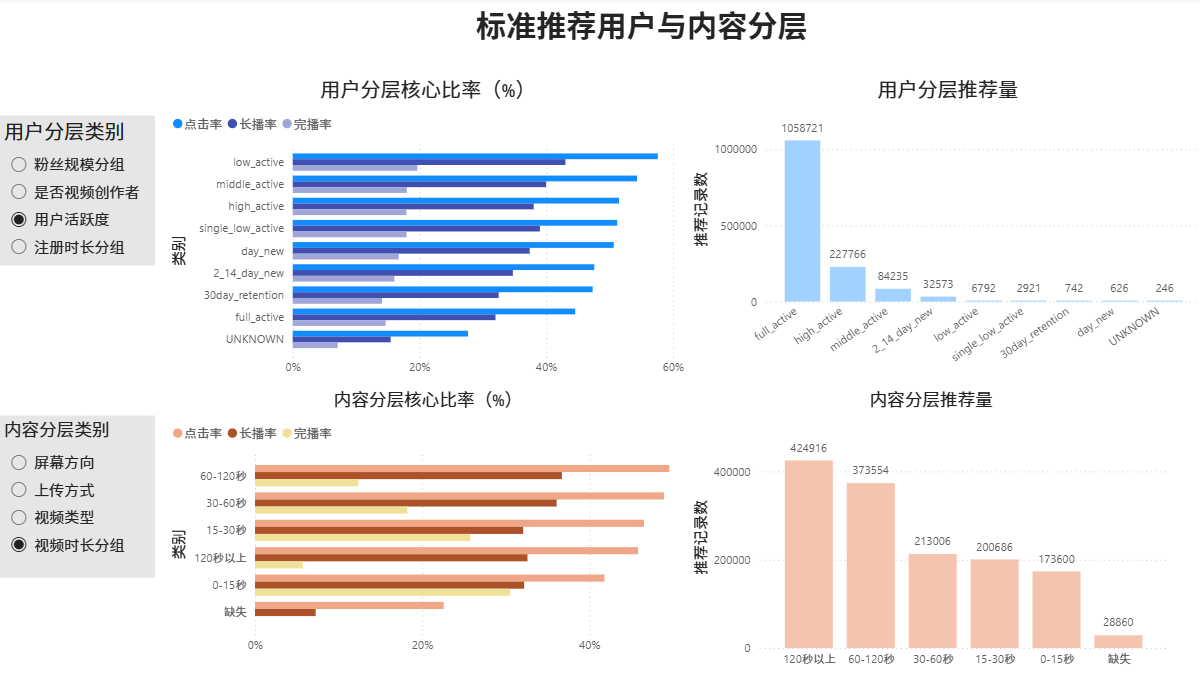

The dashboard page shown, as its layout file describes it:
{"tool":"powerbi","page":{"name":"用户与内容","canvas":[1280,720],"ordinal":1},"visuals":[{"type":"textbox","box":[455,0,453.3,81.7],"z":0},{"type":"slicer","title":"用户分层类别","fields":{"Values":["kuairand_analytics vw_metric_user_segments_standard.segment_type"]},"box":[0,125,165,158.3],"z":1000},{"type":"clusteredBarChart","title":"用户分层核心比率（%）","fields":{"Category":["kuairand_analytics vw_metric_user_segments_standard.segment_value"],"Y":["Avg(kuairand_analytics vw_metric_user_segments_standard.click_rate_pct)","Avg(kuairand_analytics vw_metric_user_segments_standard.long_view_rate_pct)","Avg(kuairand_analytics vw_metric_user_segments_standard.complete_play_rate_pct)"]},"box":[178.3,81.7,553.3,330],"z":2000},{"type":"clusteredColumnChart","title":"用户分层推荐量","fields":{"Category":["kuairand_analytics vw_metric_user_segments_standard.segment_value"],"Y":["Sum(kuairand_analytics vw_metric_user_segments_standard.recommendation_records)"]},"box":[731.7,81.7,548.3,330],"z":3000},{"type":"slicer","title":"内容分层类别","fields":{"Values":["kuairand_analytics vw_metric_content_segments_standard.segment_type"]},"box":[0,443.3,165,171.7],"z":4000},{"type":"clusteredBarChart","title":"内容分层核心比率（%）","fields":{"Category":["kuairand_analytics vw_metric_content_segments_standard.segment_value"],"Y":["Sum(kuairand_analytics vw_metric_content_segments_standard.click_rate_pct)","Sum(kuairand_analytics vw_metric_content_segments_standard.long_view_rate_pct)","Sum(kuairand_analytics vw_metric_content_segments_standard.complete_play_rate_pct)"]},"box":[178.3,411.7,553.3,293.3],"z":5000},{"type":"clusteredColumnChart","title":"内容分层推荐量","fields":{"Category":["kuairand_analytics vw_metric_content_segments_standard.segment_value"],"Y":["Sum(kuairand_analytics vw_metric_content_segments_standard.recommendation_records)"]},"box":[731.7,411.7,513.3,308.3],"z":6000}]}

Visuals, with their boxes in screenshot pixels (x1, y1, x2, y2), scaled from the page's 1280x720 canvas onto the 1200x675 screenshot:
textbox: <bbox>427, 0, 852, 77</bbox>
"用户分层类别" slicer: <bbox>0, 117, 155, 266</bbox>
"用户分层核心比率（%）" clusteredBarChart: <bbox>167, 77, 686, 386</bbox>
"用户分层推荐量" clusteredColumnChart: <bbox>686, 77, 1199, 386</bbox>
"内容分层类别" slicer: <bbox>0, 416, 155, 577</bbox>
"内容分层核心比率（%）" clusteredBarChart: <bbox>167, 386, 686, 661</bbox>
"内容分层推荐量" clusteredColumnChart: <bbox>686, 386, 1167, 674</bbox>
